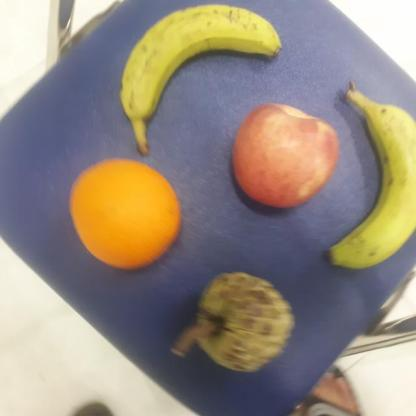apple: (230, 100, 345, 215)
banana: (107, 2, 286, 121), (325, 86, 416, 266)
orange: (65, 158, 180, 273)
